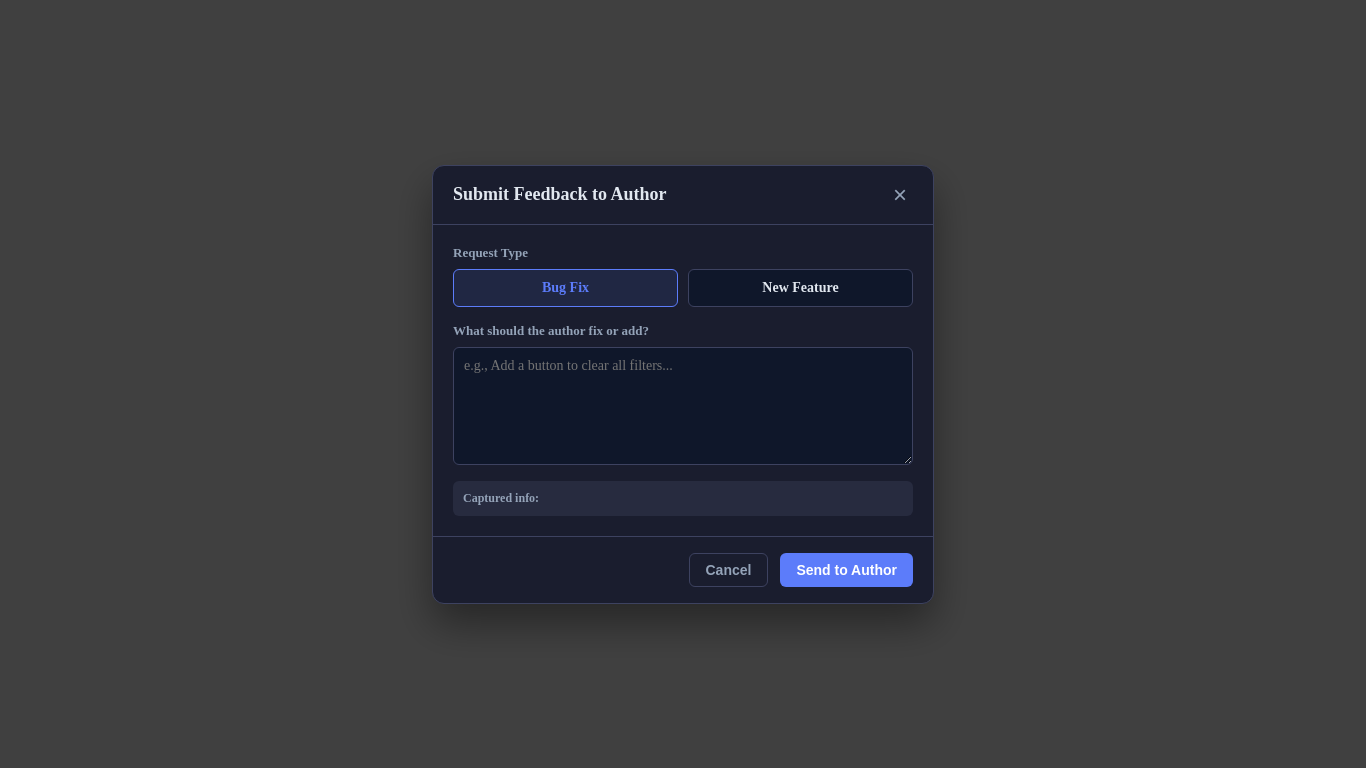
Test: FeedbackDialog › handles 500 Internal Server Error correctly
The image size is (1366, 768).
Type "Feedback with error" into the text box with placeholder "e.g., Add a button to clear all filters..." at x=683, y=406, box [453,346,913,464]
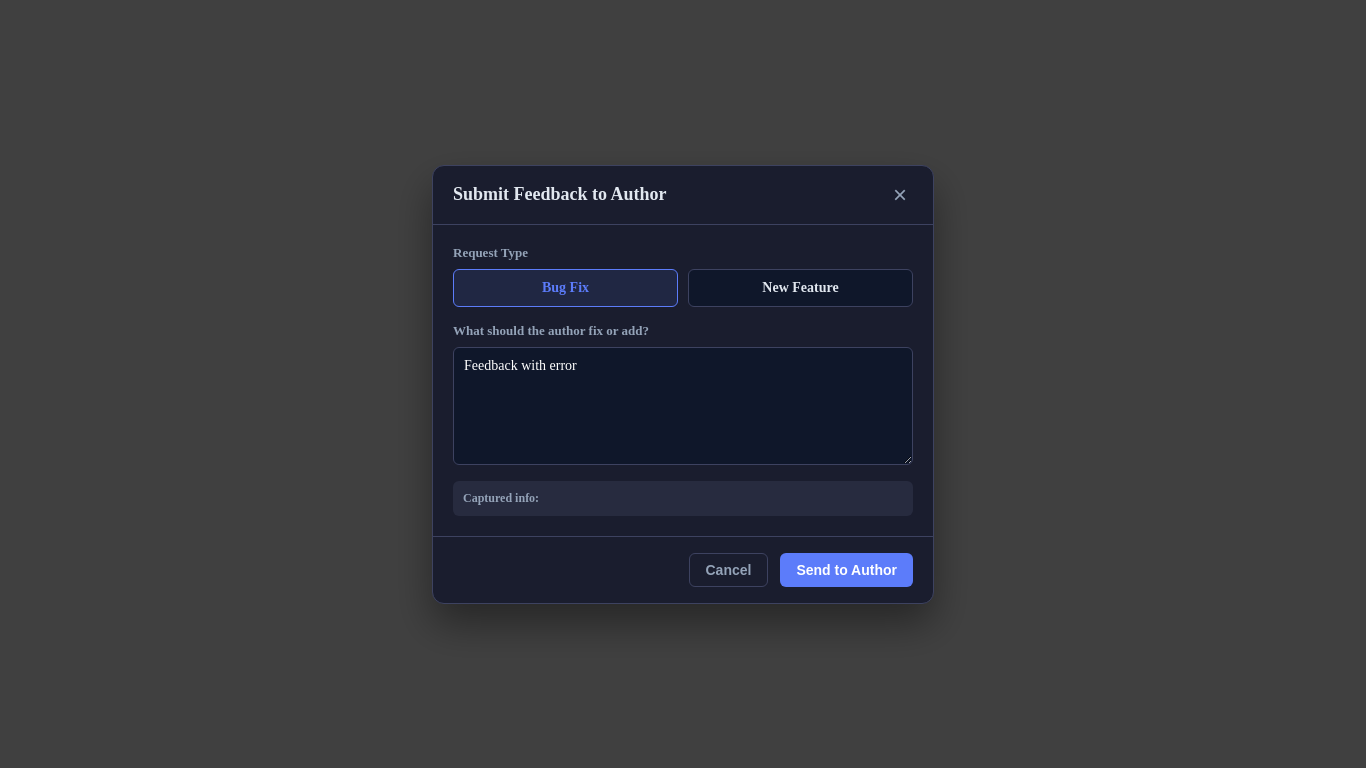
Click the button "Send to Author" at x=847, y=570, box [780,552,913,586]
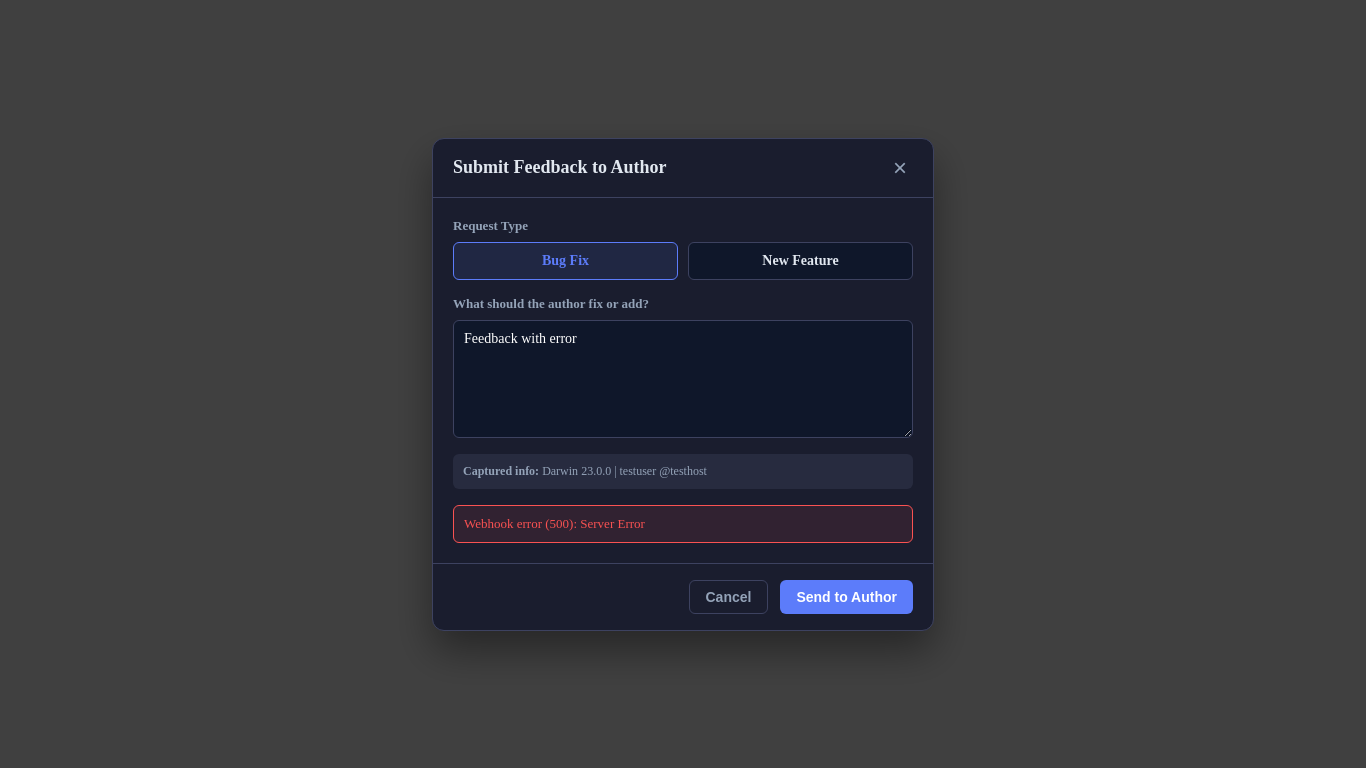
Now the text "Webhook error (500): Server Error" is shown, box [453,504,913,542]
